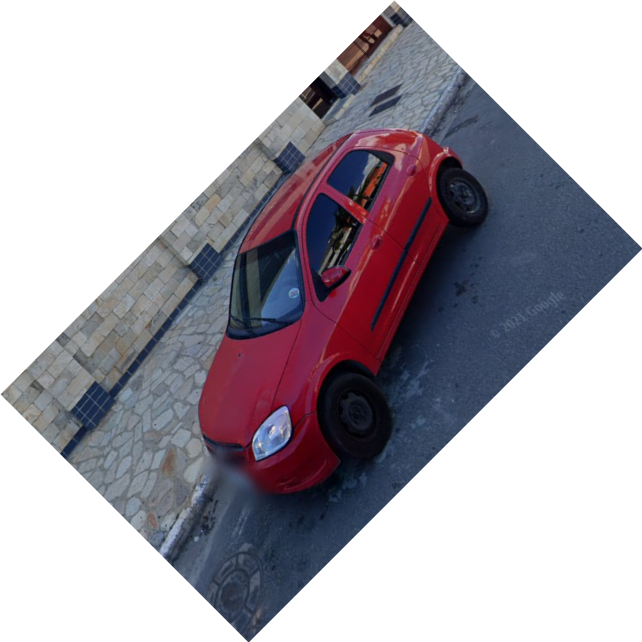car: (194, 125, 492, 498)
